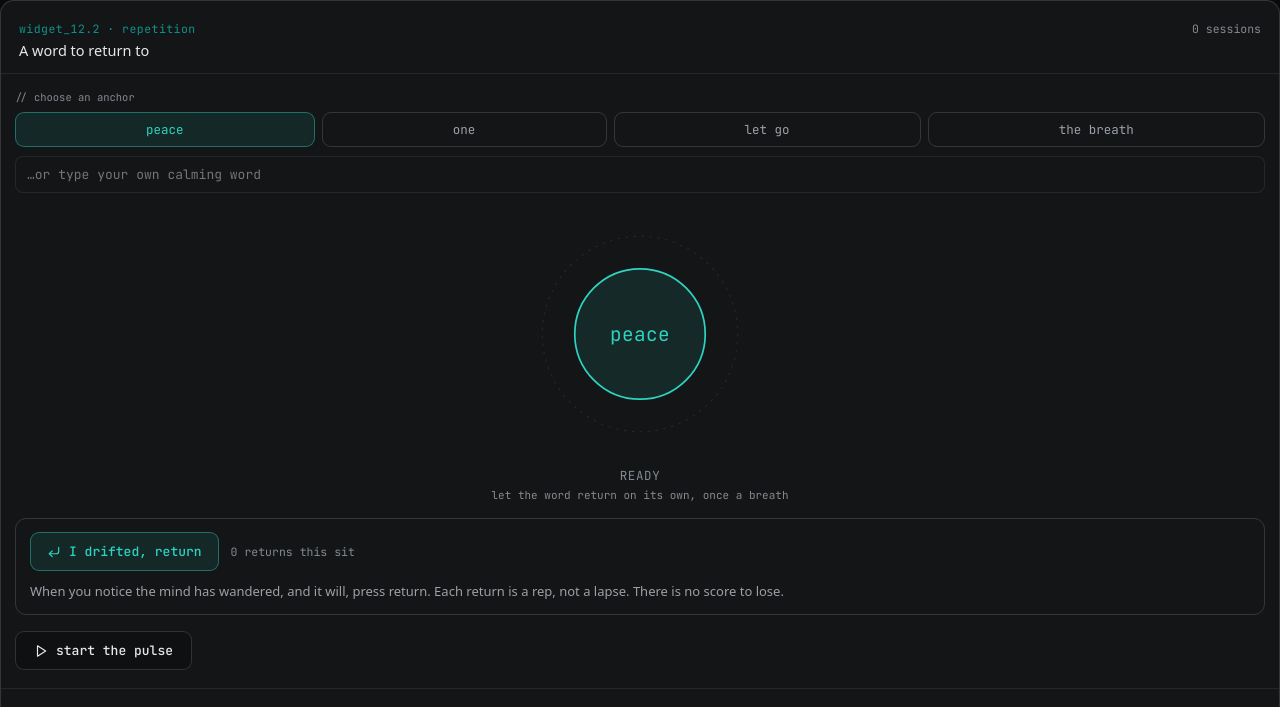
Test: RepetitionPractice › announces a gentle return after a reader records a drift
The width and height of the screenshot is (1280, 707).
Click the button "I drifted, return" at (124, 552), box [30,532,219,571]
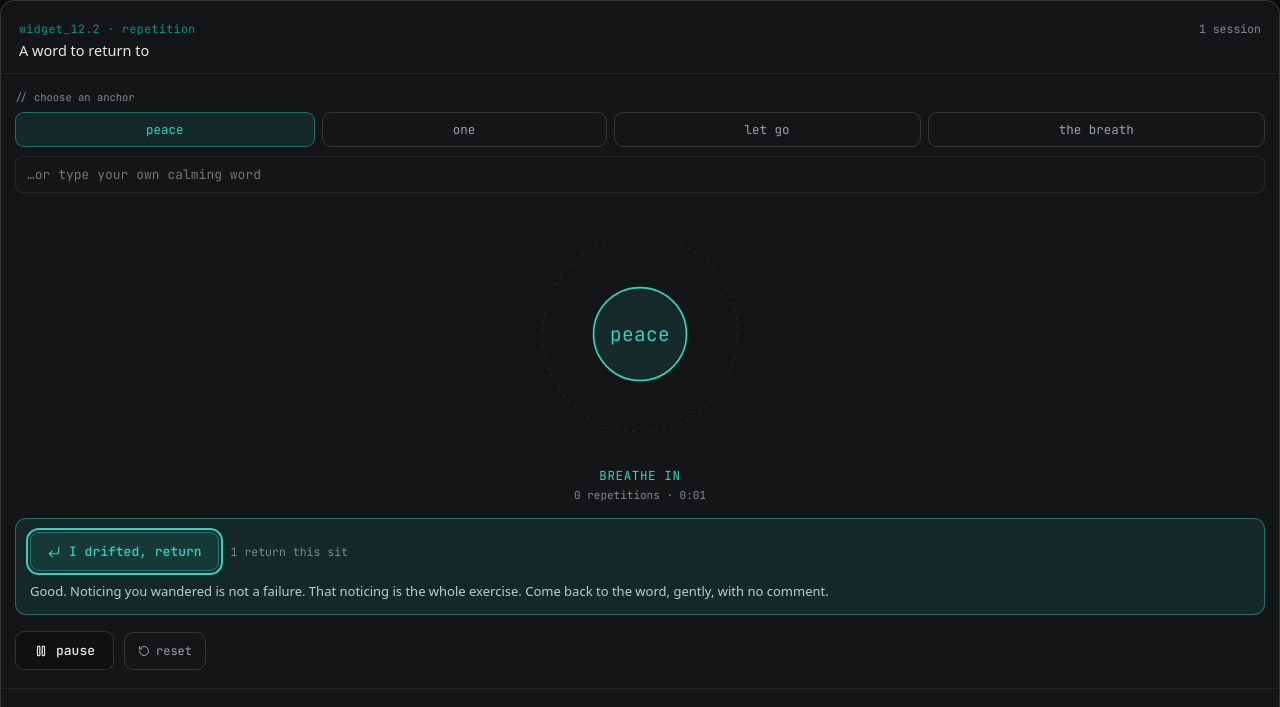
Now the text "Noticing you wandered is not a failure" is shown, box [30,582,829,600]
